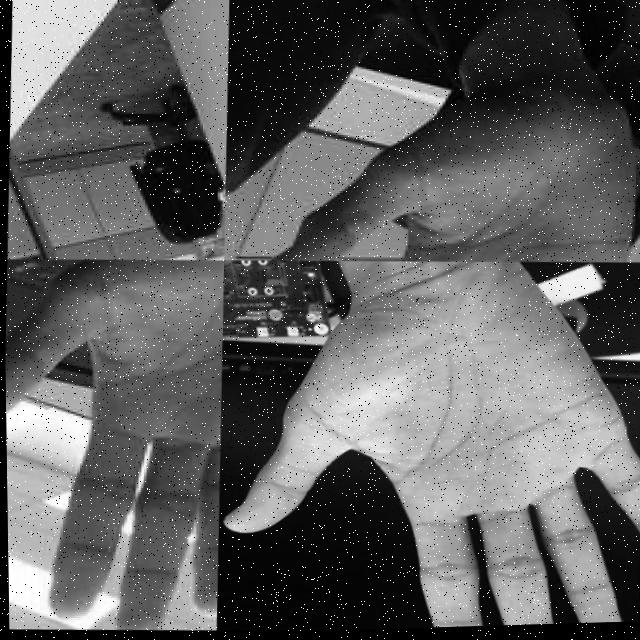hand: (208, 250, 640, 635), (3, 253, 226, 636), (255, 58, 640, 274)
